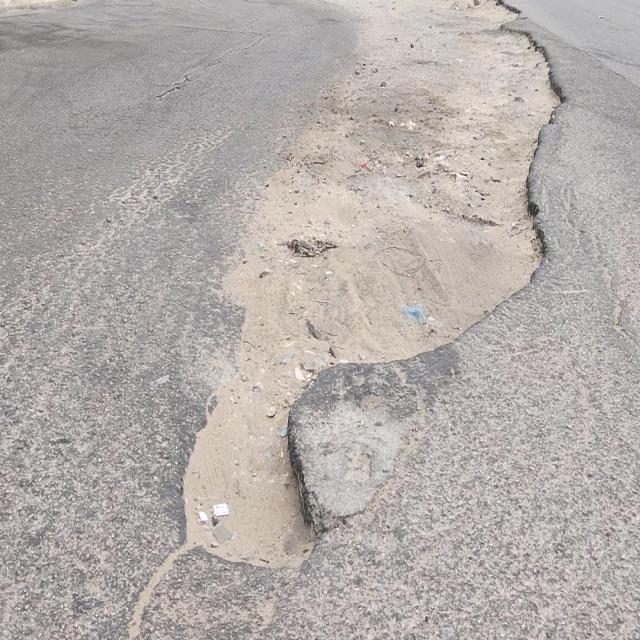Potholes: (176, 394, 329, 576), (476, 175, 553, 282), (513, 56, 568, 121), (499, 22, 544, 59)
